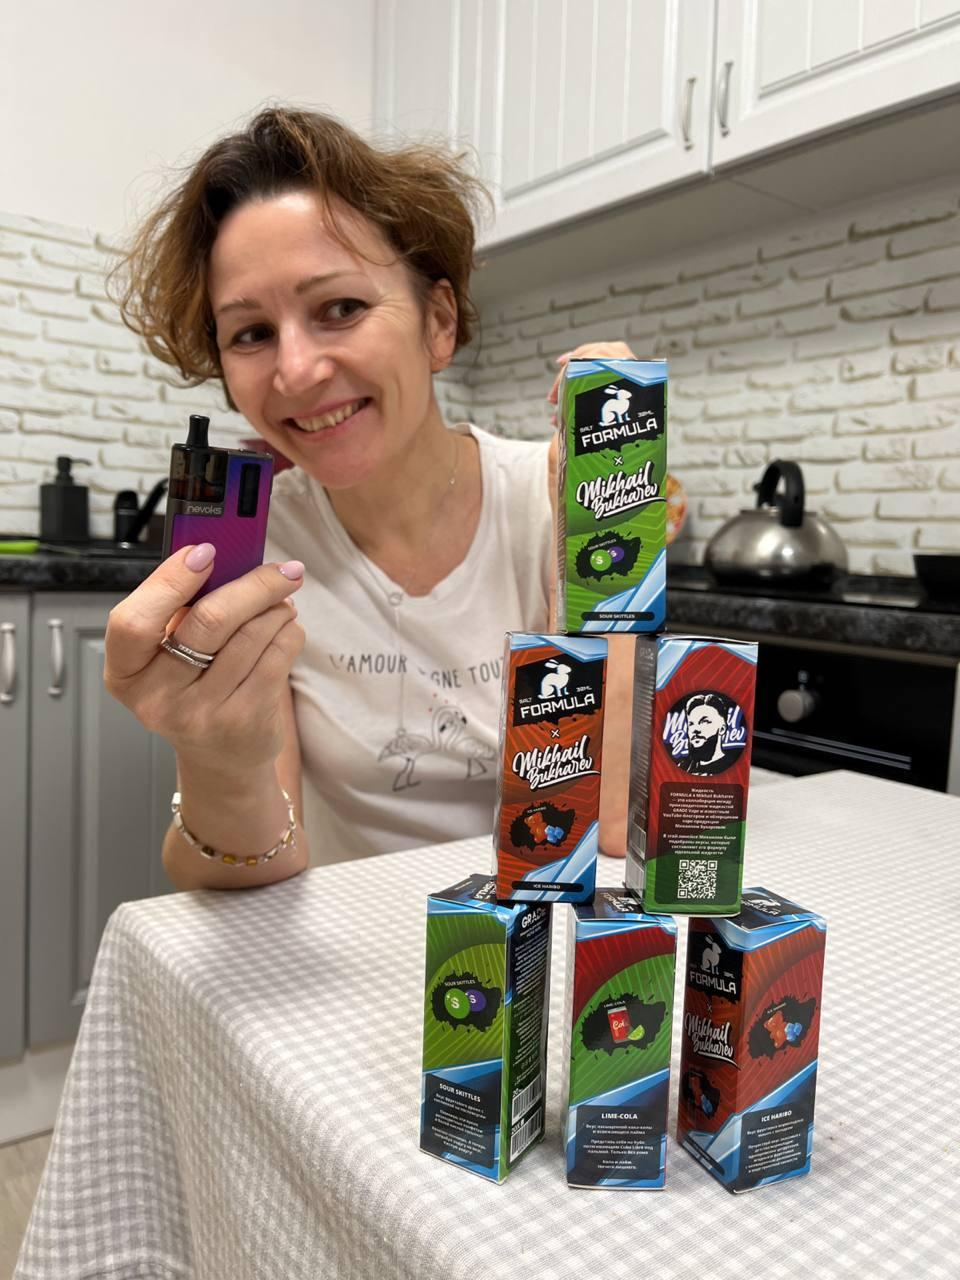Vape: (162, 415, 274, 608)
